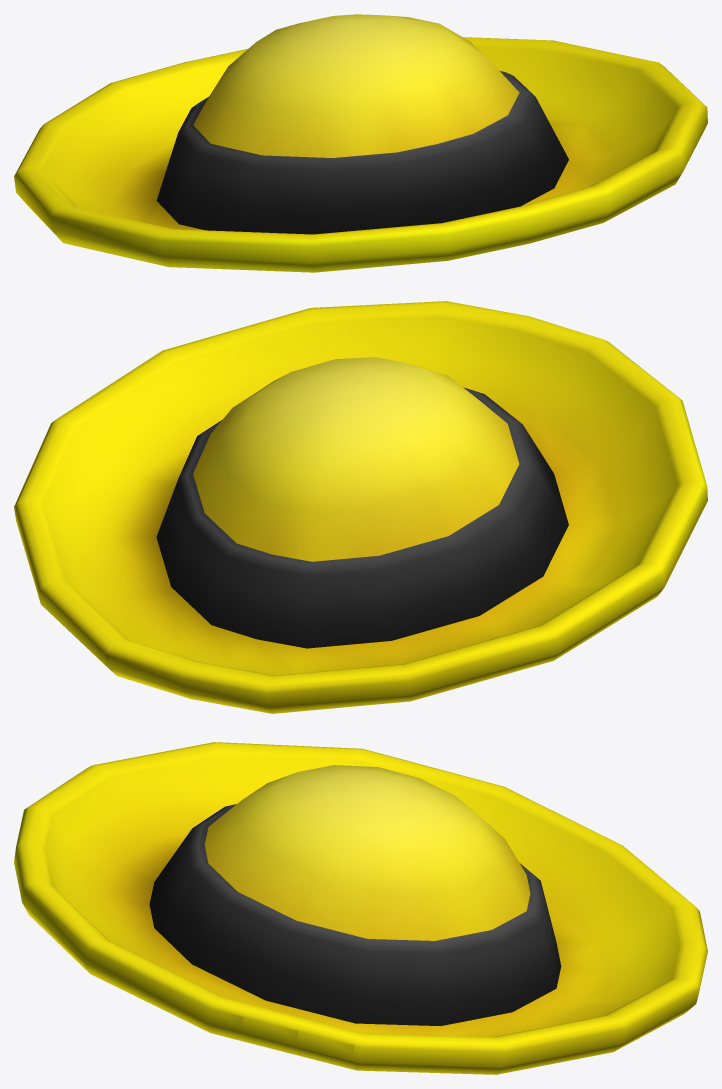
File: hat_16.fbx
3 renders of one model, top to bottom at view 1: azimuth 30°, elevation 25°; view 2: azimuth 150°, elevation 25°; view 3: azimuth 270°, elevation 25°, orthographic.
Visible parts, largest first — view 1: hat_16; view 2: hat_16; view 3: hat_16.
Part boxes in pixels (<box>): hat_16: <box>14,14,707,272</box>; hat_16: <box>14,301,707,713</box>; hat_16: <box>14,742,707,1074</box>.
Bounding box in the file's own units: 92.61 × 30.5 × 91.63.
